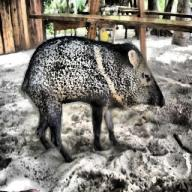boar: (20, 35, 164, 162)
